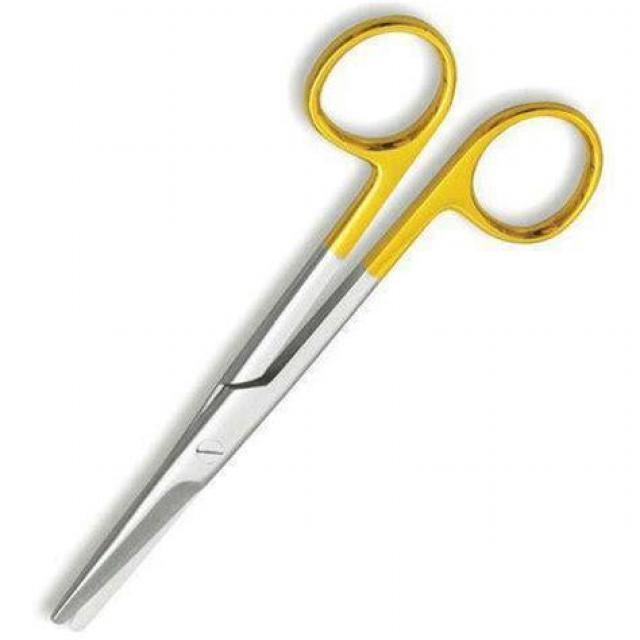Mayo_metz: (44, 15, 606, 640)
